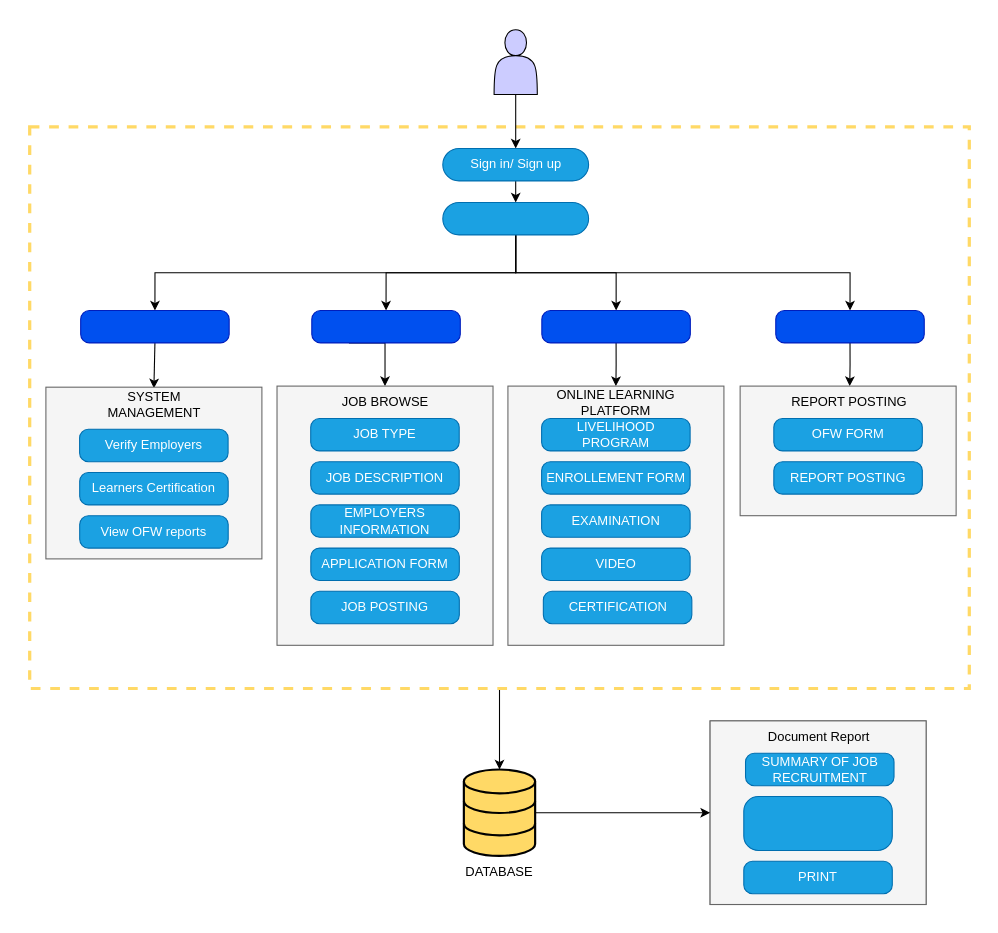
This 998x933 diagram has some shape labels left out. Here are the shapes that lost their labels. From the top down, the box of each, then its label:
(442, 201, 589, 235): HOME PAGE
(80, 309, 229, 343): Admin
(311, 309, 460, 343): JOB POST
(541, 309, 690, 343): E-LEARNING
(775, 309, 924, 343): OFW
(743, 795, 892, 850): SUMMARY OF LIVELIHOOD PROGRAM
